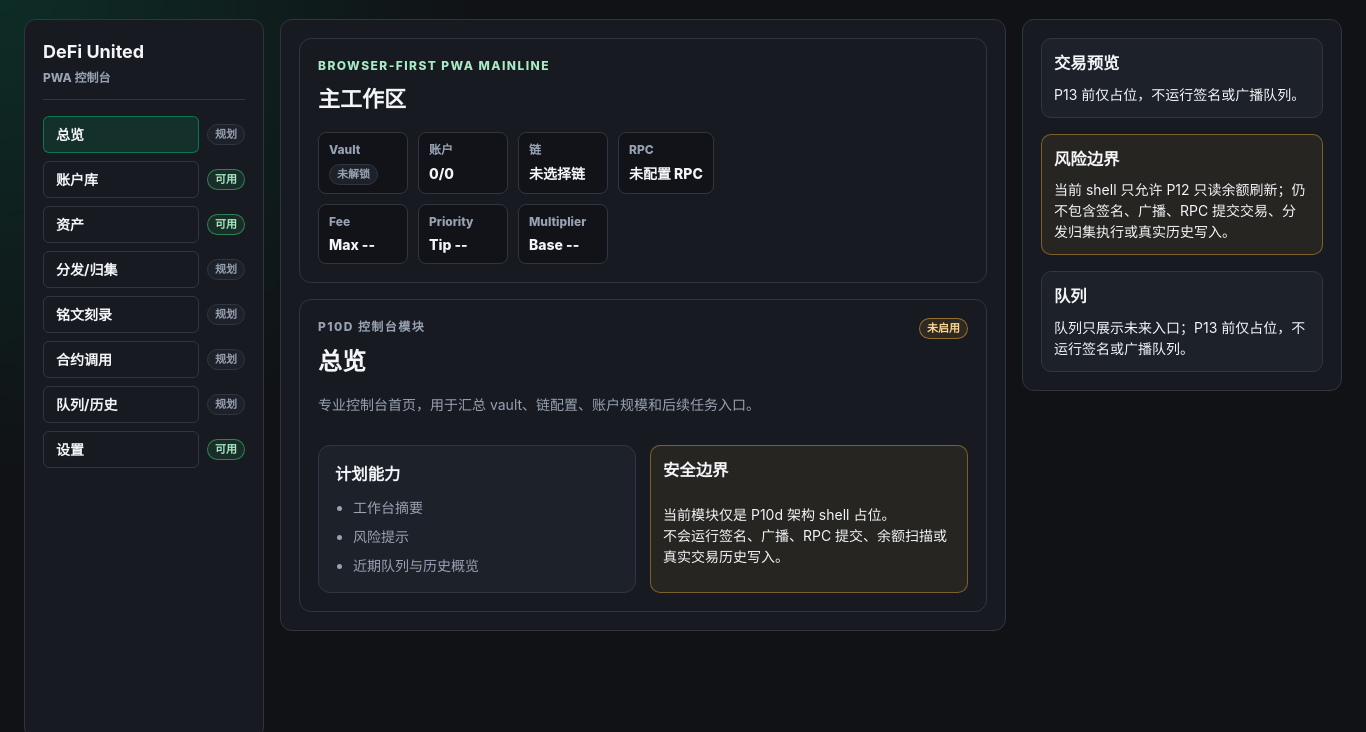
PwaShell › treats disabled RPC endpoints as no RPC and never constructs an asset RPC client
Click the button "账户库" at (121, 180), box [43, 161, 199, 198]
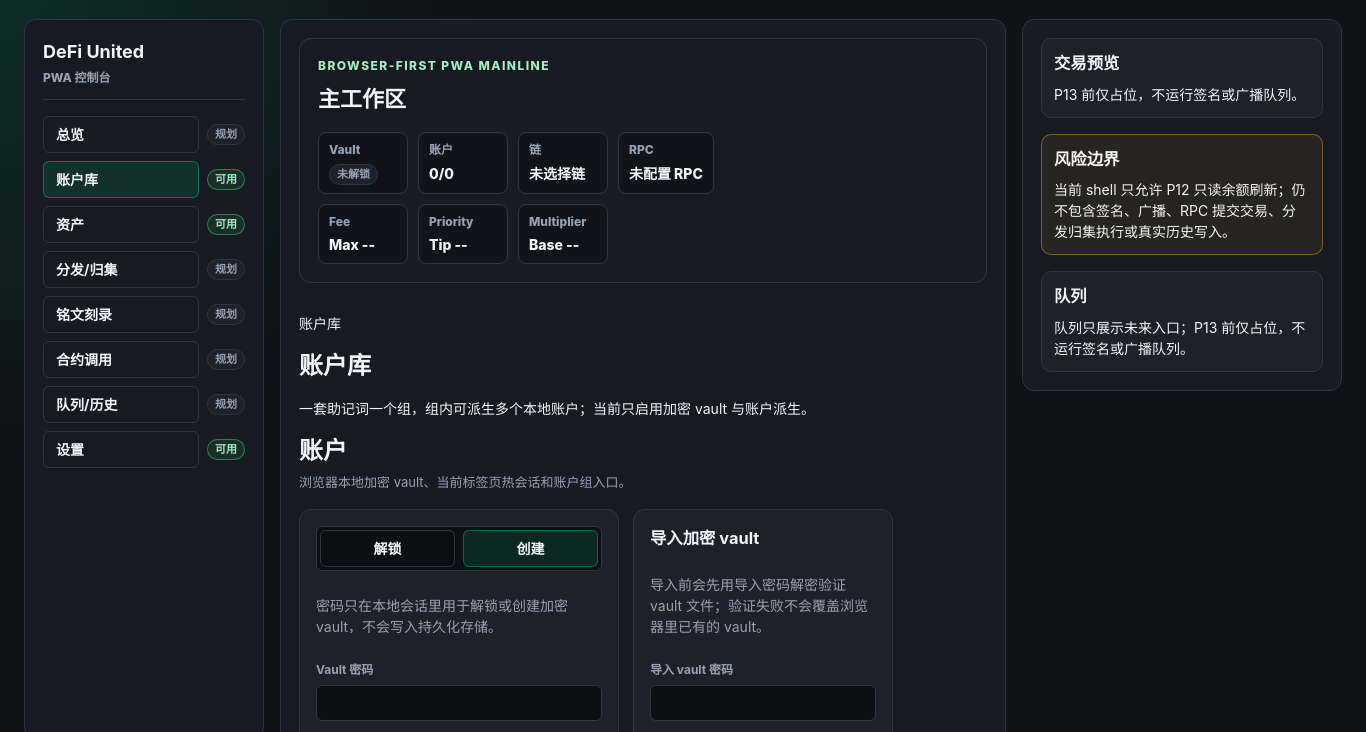
Type "correct horse battery staple" into the password field labelled "Vault 密码" at (459, 703), box [316, 685, 602, 721]
(page scrolled)
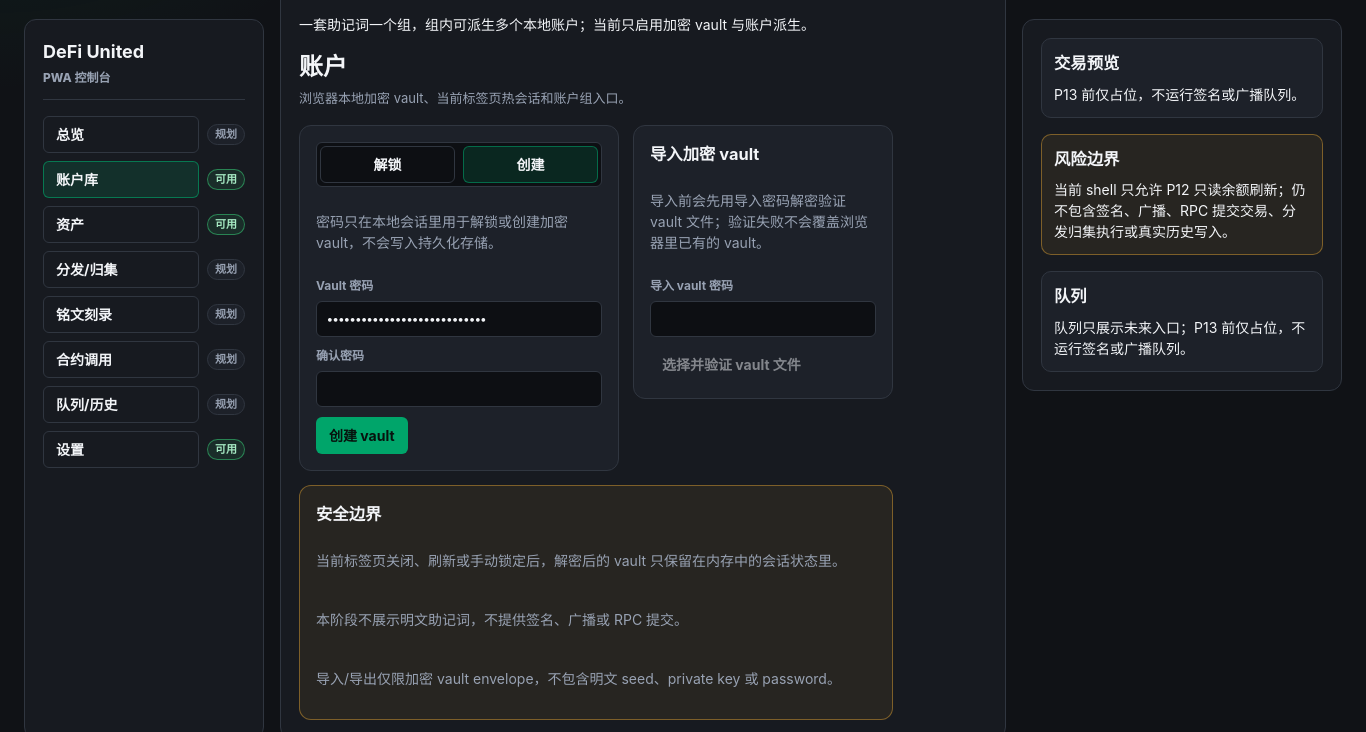
Type "correct horse battery staple" into the password field labelled "确认密码" at (459, 389), box [316, 371, 602, 407]
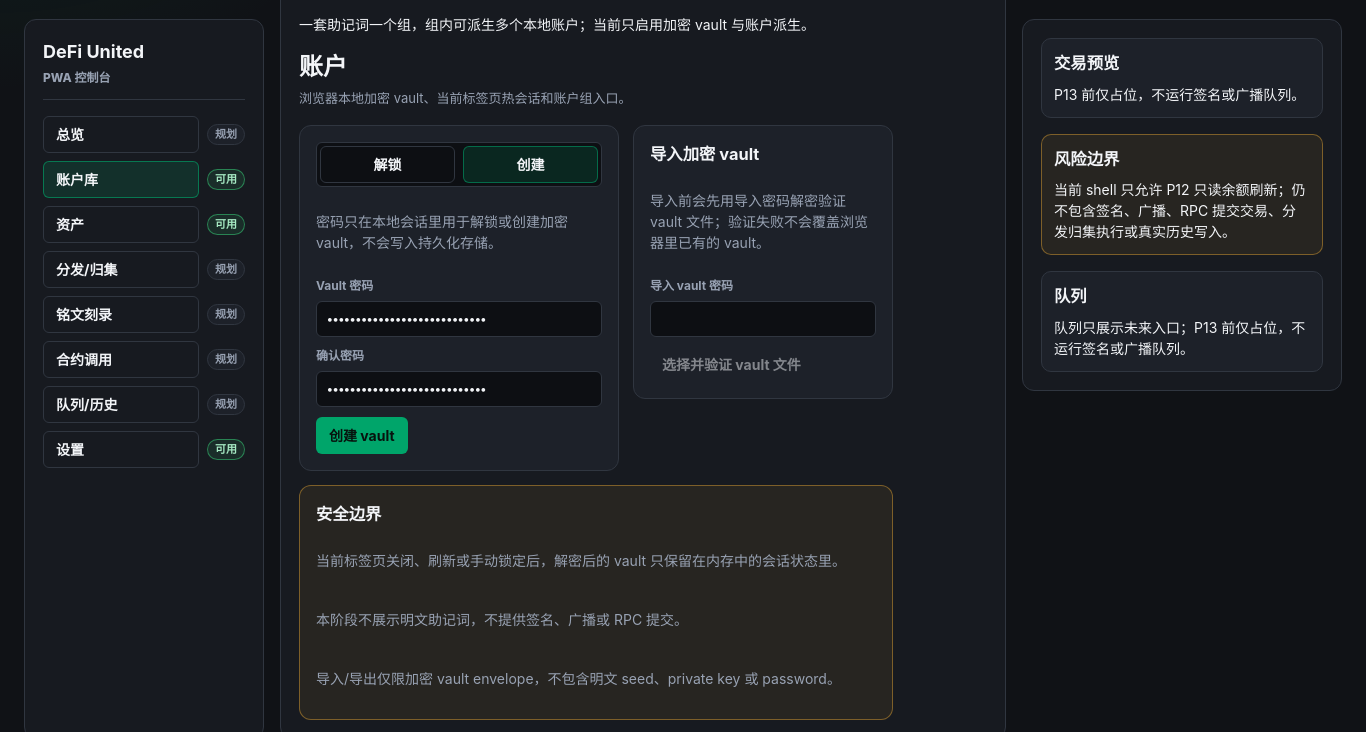
Click the button "创建 vault" at (362, 435), box [316, 417, 408, 454]
(page scrolled)
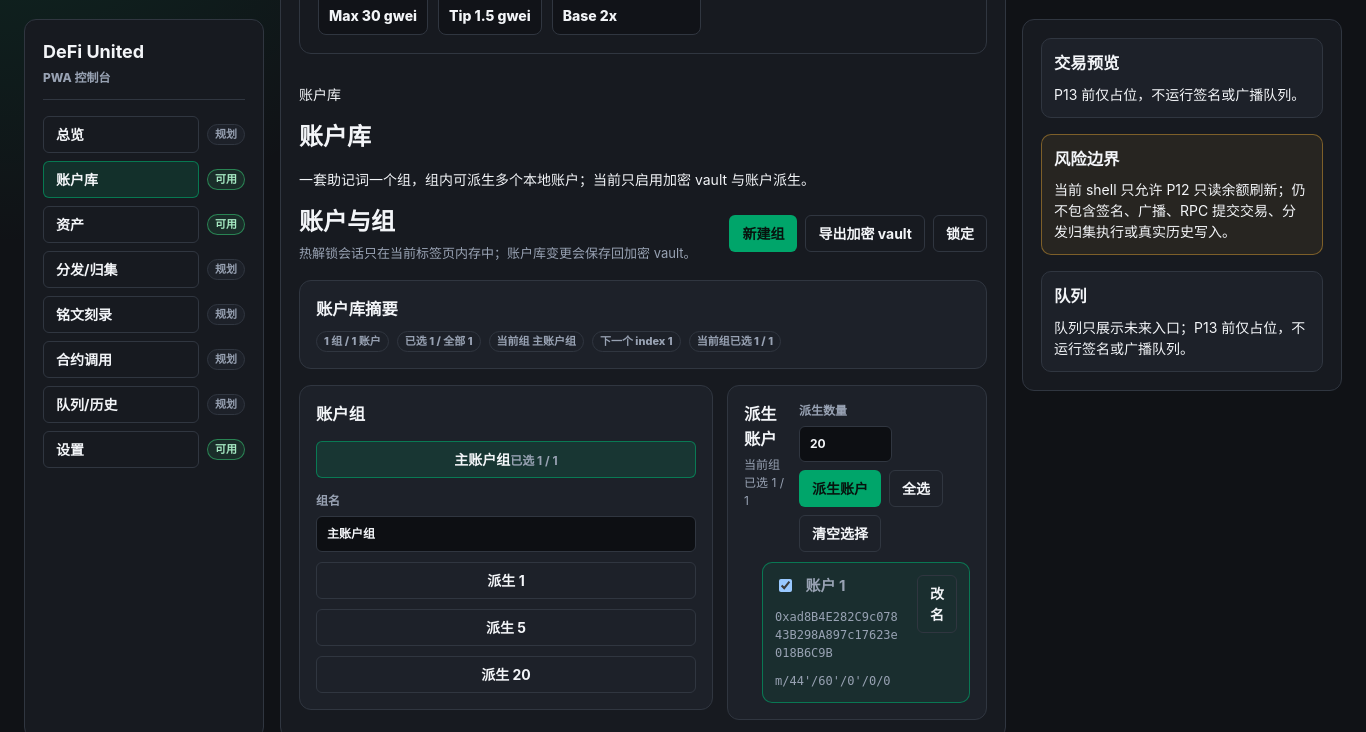
Check: the heading "账户与组" is shown, box [299, 207, 395, 236]
Click the button "资产" at (121, 224), box [43, 206, 199, 243]
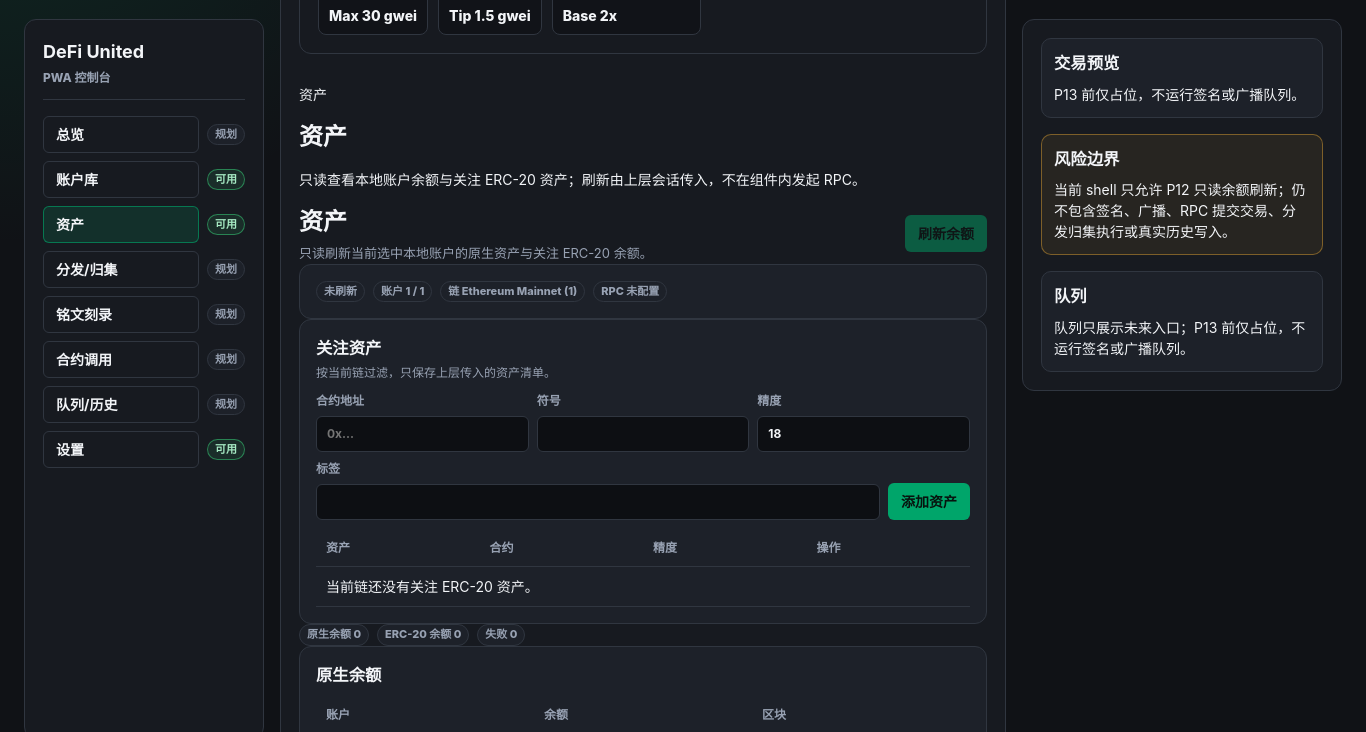
Check: the text "RPC 未配置" is shown, box [593, 281, 667, 302]
Check: the button "刷新余额" is disabled, box [905, 215, 987, 252]
